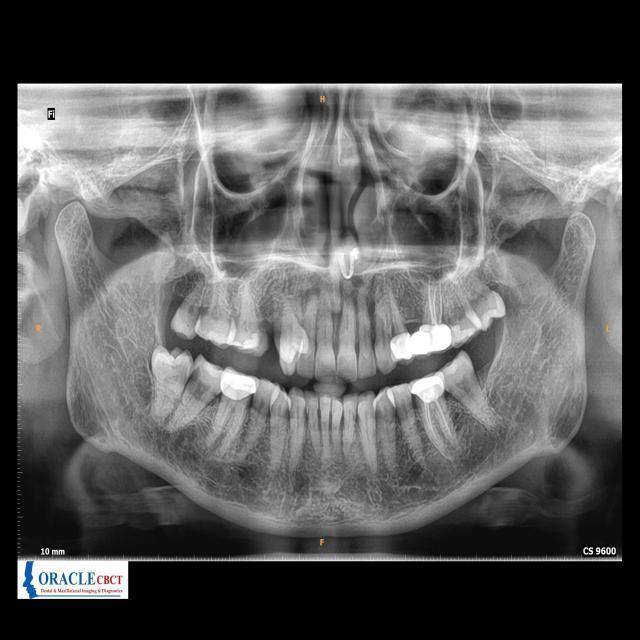dentin-curugu: (459, 314, 476, 332), (189, 368, 201, 386)
kanal-tedavisi: (426, 399, 451, 446), (424, 280, 444, 323)
kaplama: (222, 364, 258, 401), (416, 374, 443, 402), (388, 333, 414, 361), (429, 322, 453, 352)
kopru: (409, 324, 431, 360)
